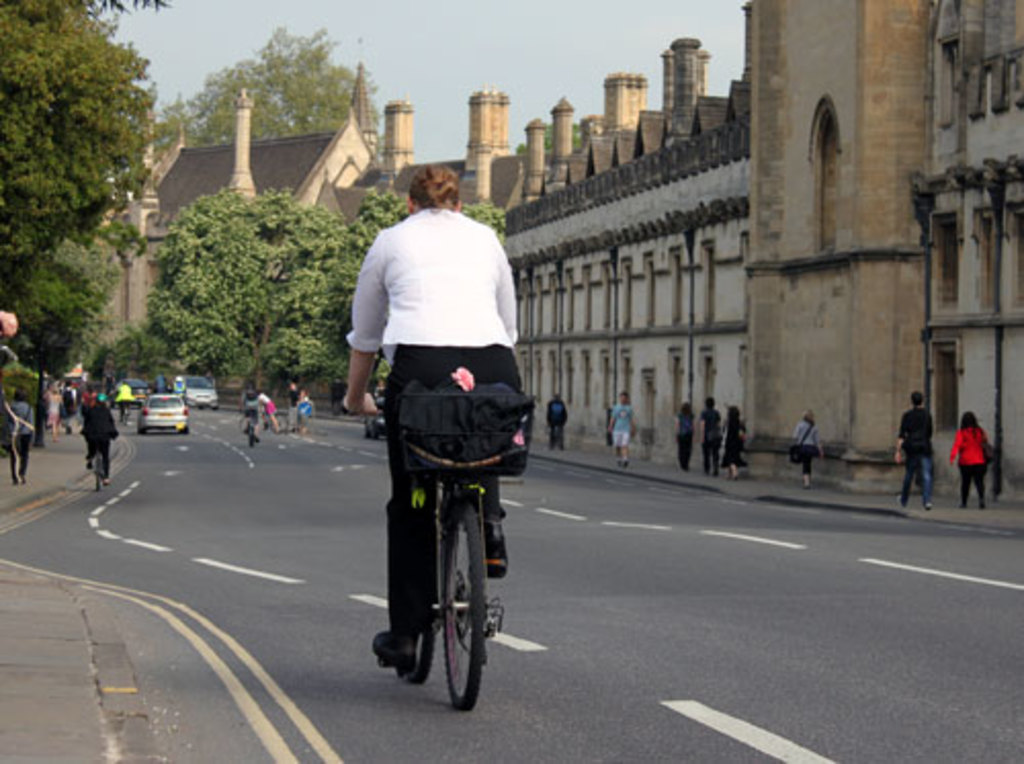Bicycle: (342, 397, 514, 712), (79, 430, 118, 495)
